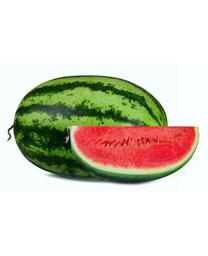watermelon: (8, 74, 168, 181), (68, 123, 199, 183)
